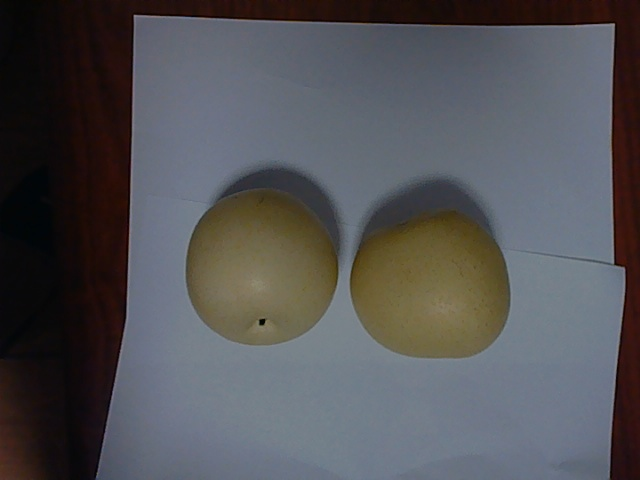pear: (345, 211, 512, 355), (190, 187, 338, 349)
